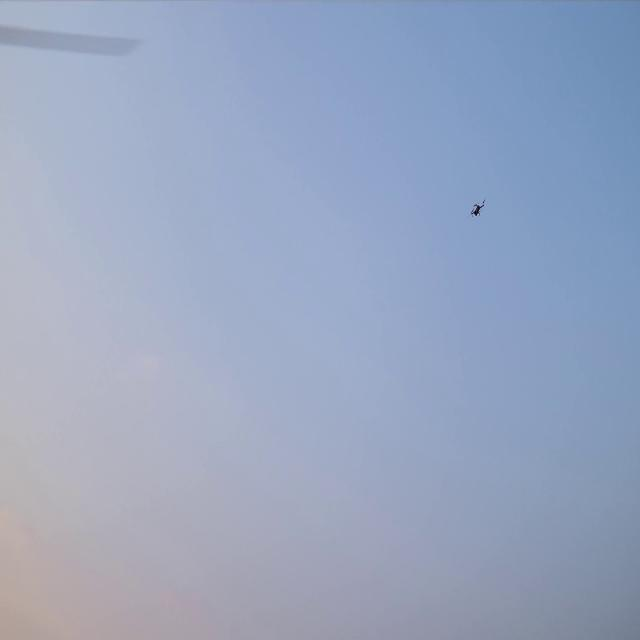UAV: (471, 202, 484, 216)
